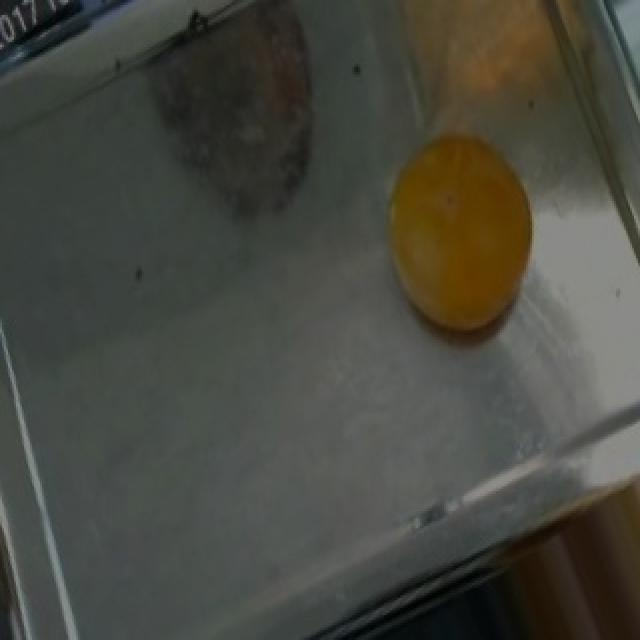Fruit: (362, 114, 558, 352)
